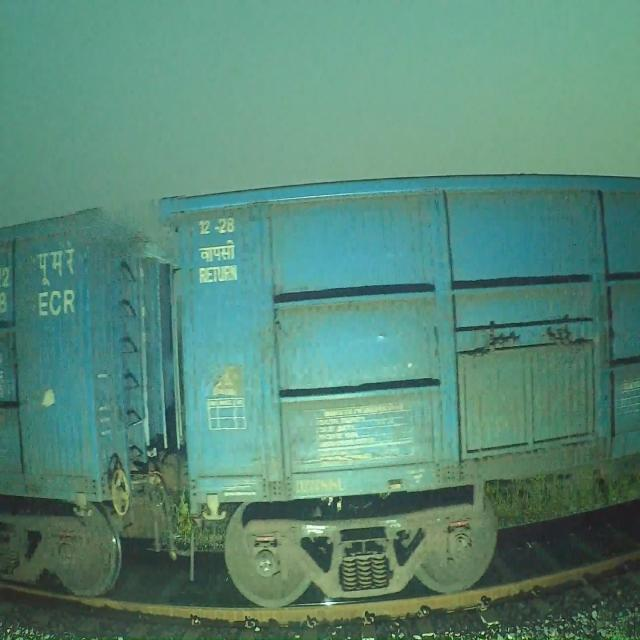WAgon-uic: (150, 167, 640, 611), (0, 200, 235, 603)
uic: (0, 260, 17, 324)
